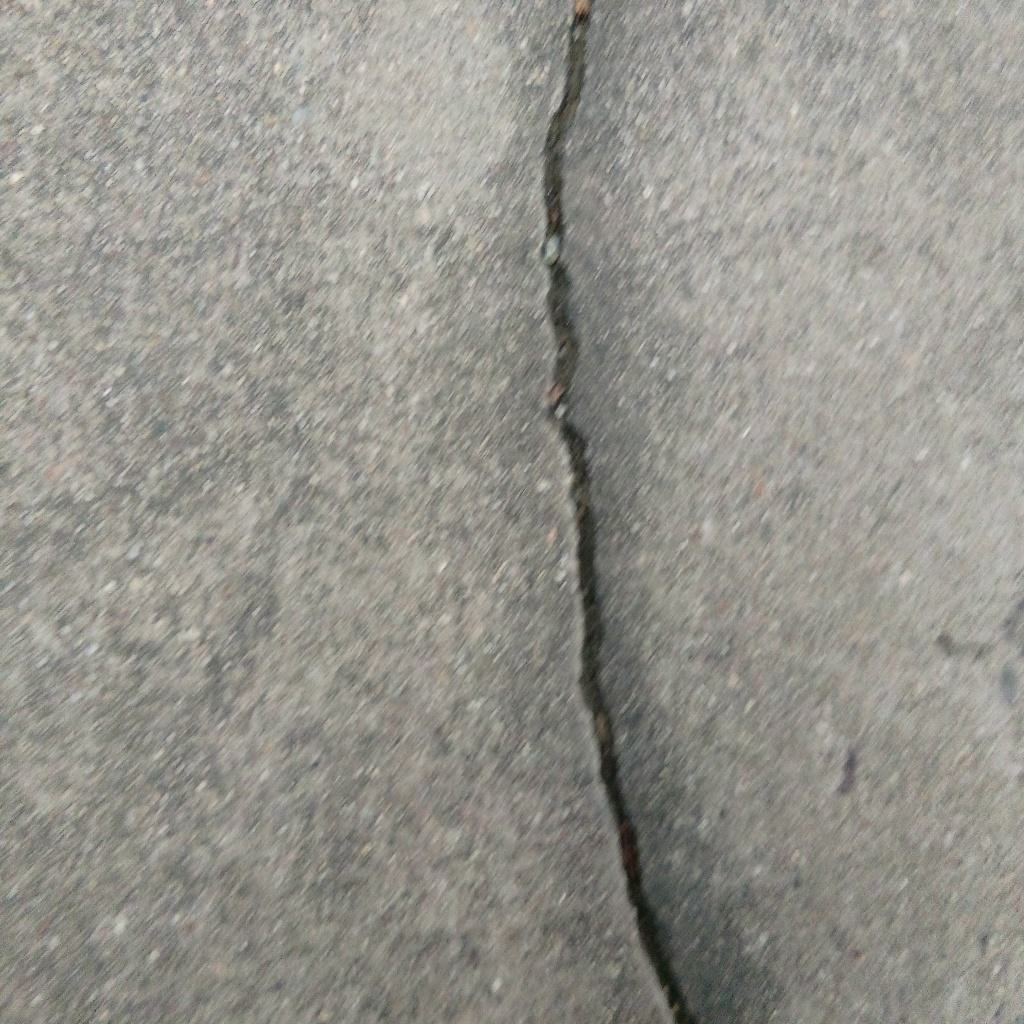Crack: (536, 1, 700, 1024)
